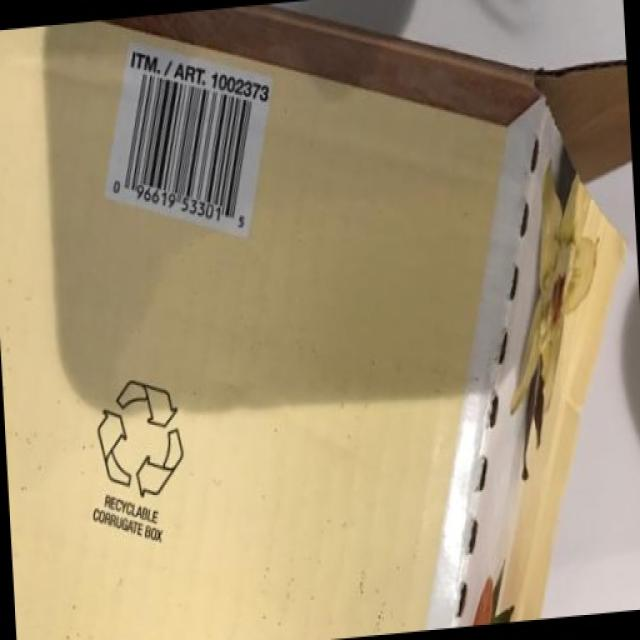carton: (9, 12, 565, 628)
